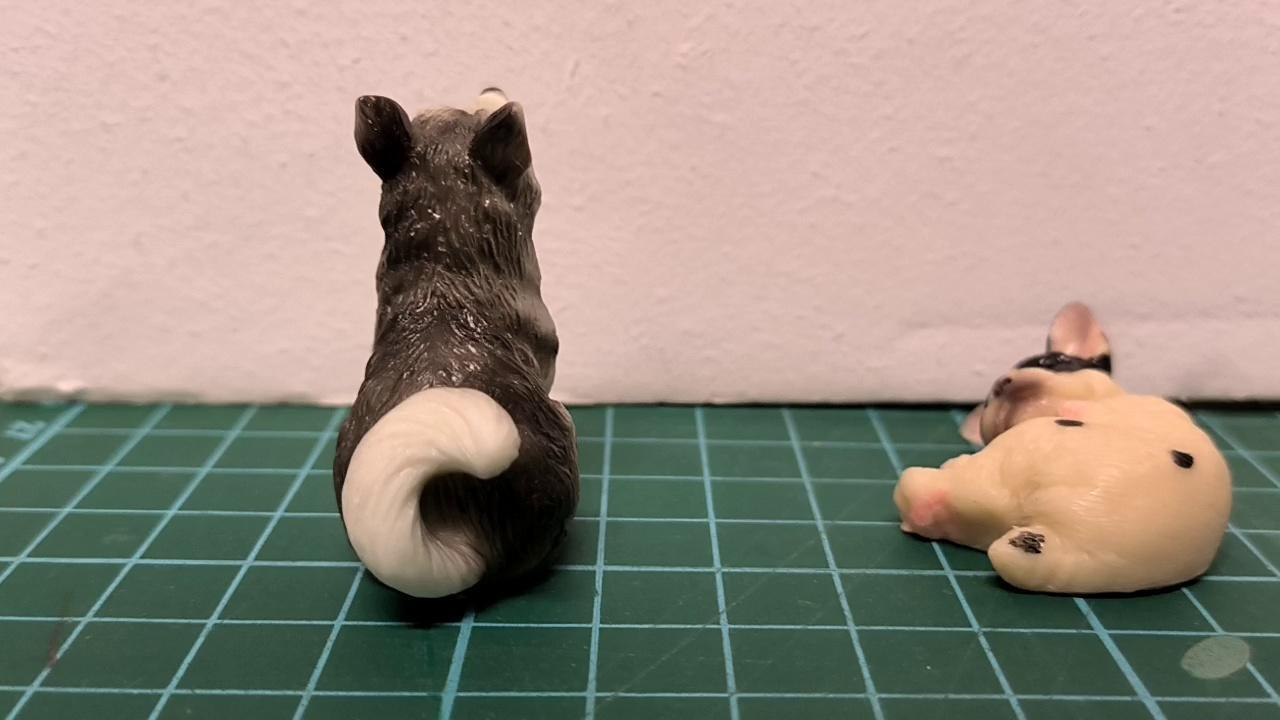pet: (335, 87, 587, 611), (894, 302, 1237, 594)
